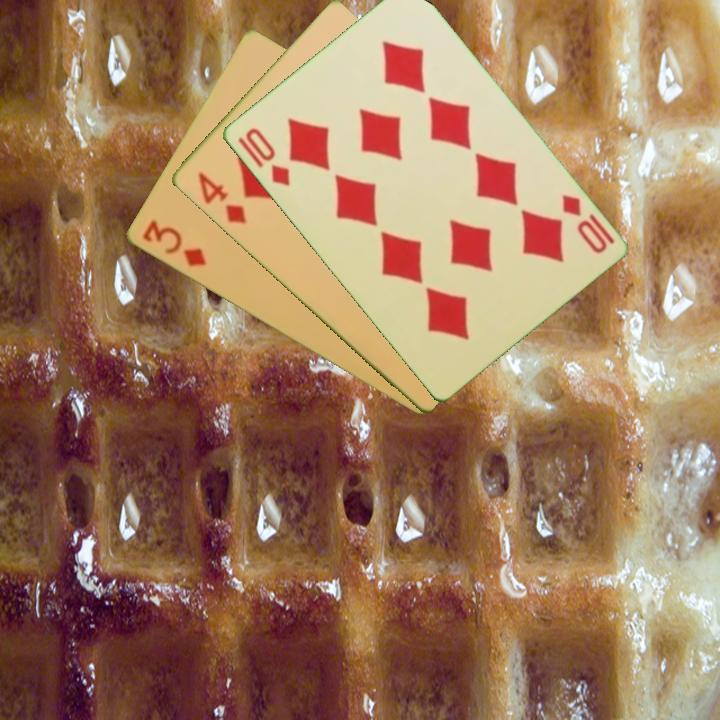10d: (557, 190, 610, 257), (241, 124, 293, 190)
3d: (138, 216, 209, 271)
4d: (193, 168, 249, 227)
